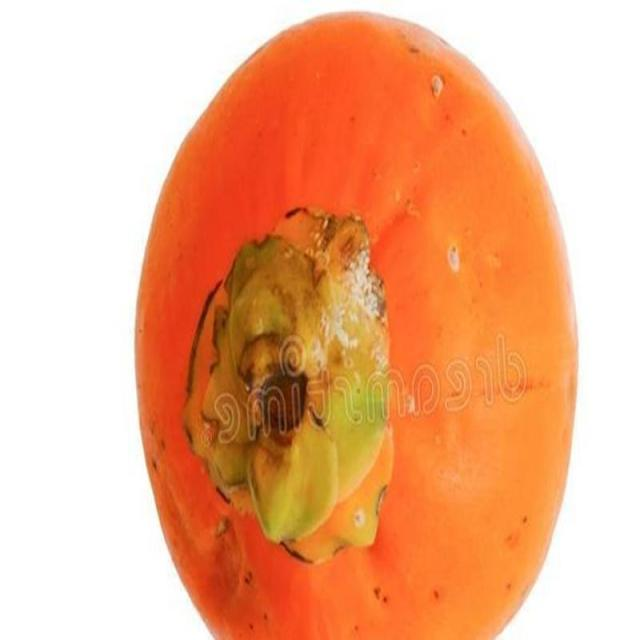good: (136, 12, 582, 639)
